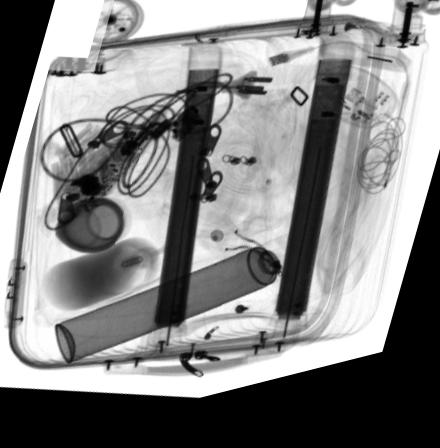Sprayer: (54, 247, 304, 366)
